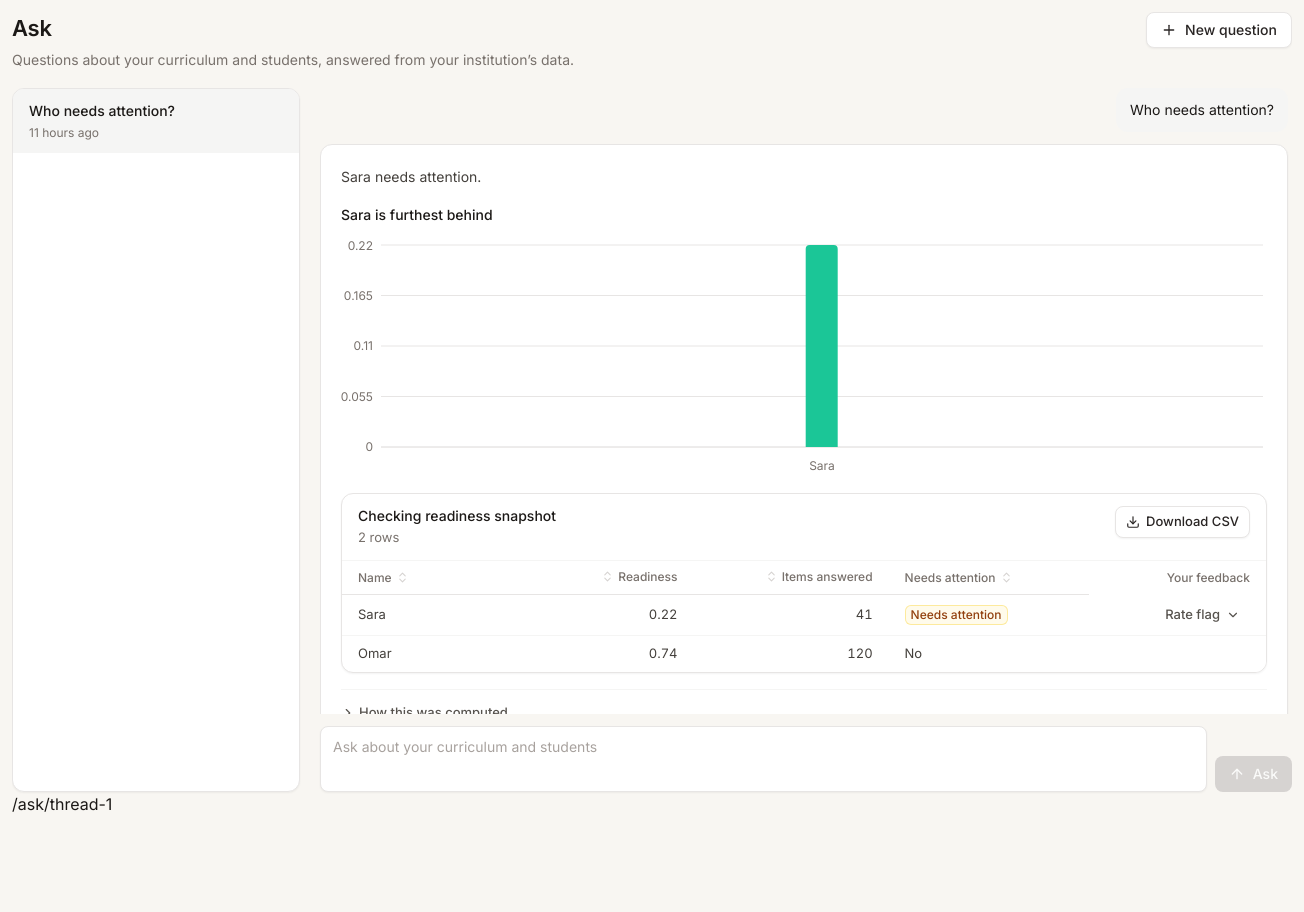
it: asking › starts over from New question
Expected: the text "Sara needs attention." is shown, [341,168,481,185]
Step 1. Click the button "New question" → x=1219, y=30, box [1146,12,1292,48]
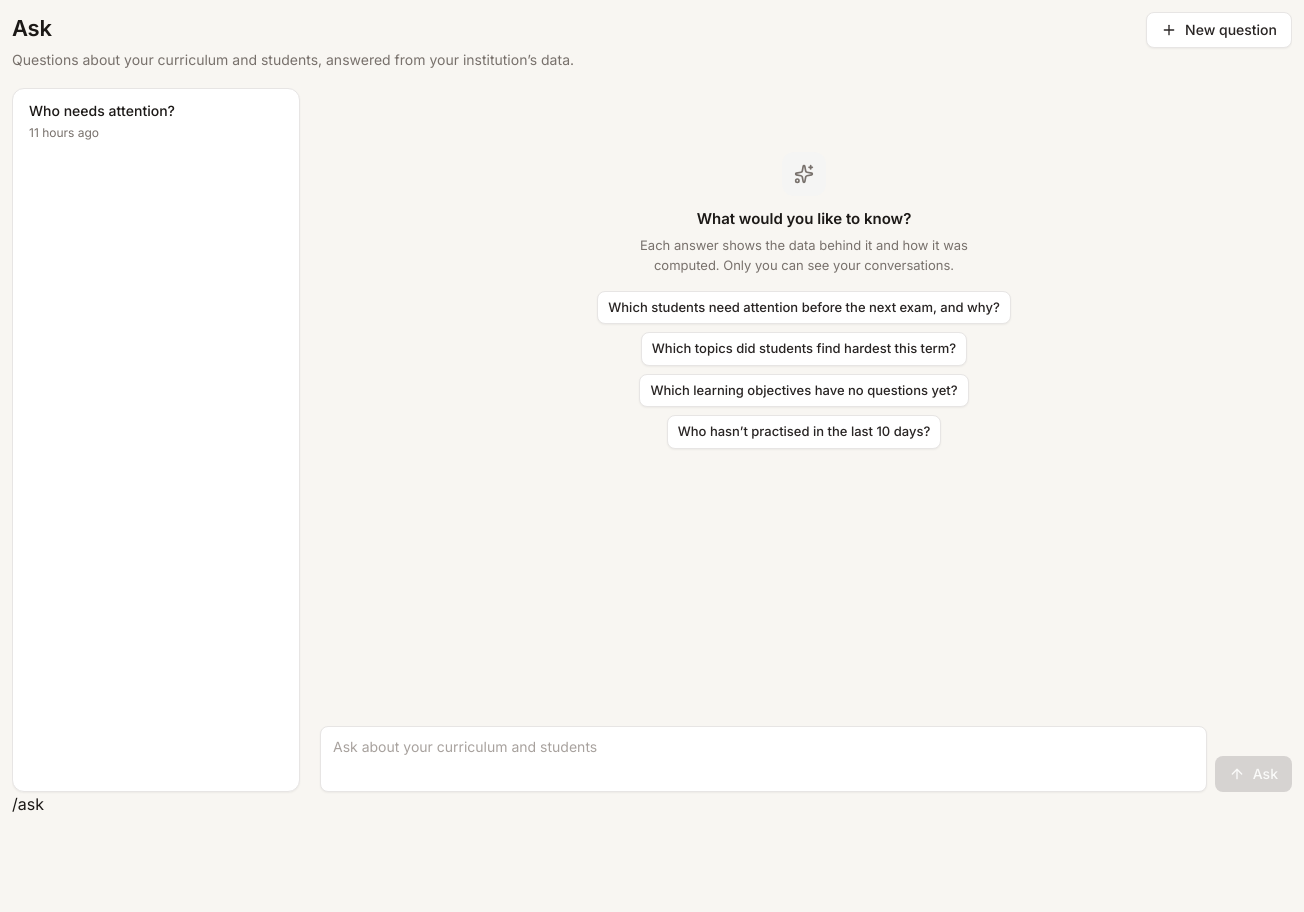
Expected: the text with test id "where" reads "/ask", [12,794,44,814]
Expected: the text "What would you like to know?" is shown, [697,208,911,230]
Expected: the text "Sara needs attention." is gone
